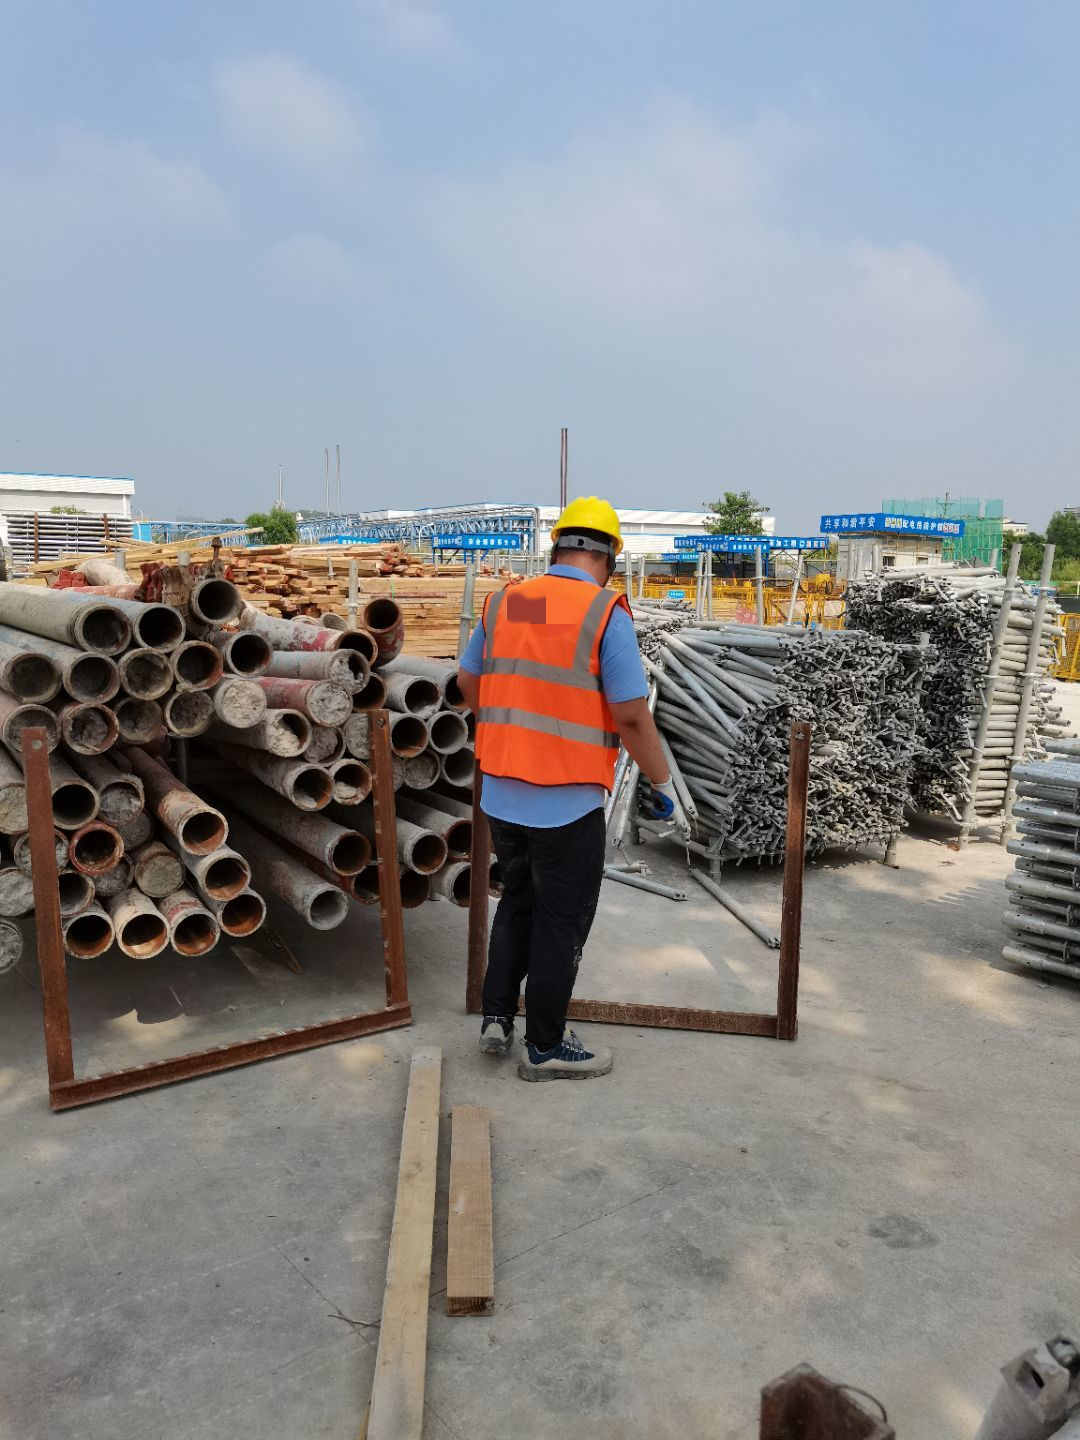helmet: (552, 493, 630, 538)
person: (460, 495, 673, 1085)
rebar: (4, 570, 473, 967)
scaffold: (660, 617, 907, 877), (854, 564, 1037, 840), (1003, 754, 1080, 986)
slogan: (819, 514, 880, 531)
vest: (485, 580, 620, 781)
wood: (217, 539, 474, 650)
